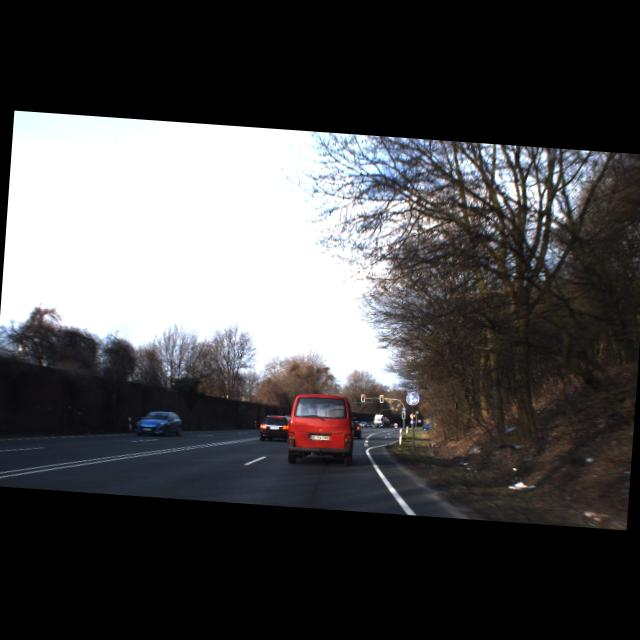mandatory: (404, 392, 418, 406)
